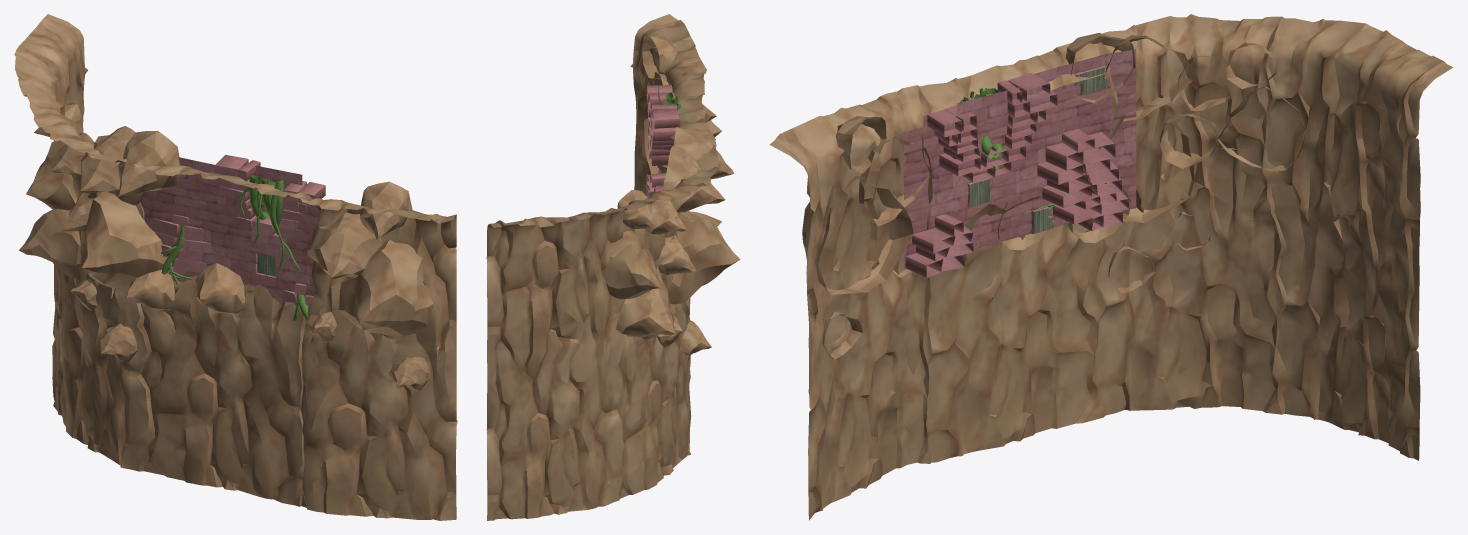
Rendered from SM_ENV_KNFRST_Cliff_Eb.FBX.
The picture shows the model from 3 angles, left to right: view 1: azimuth 30°, elevation 25°; view 2: azimuth 150°, elevation 25°; view 3: azimuth 270°, elevation 25°; orthographic projection. The views are drawn at different scales.
Visible parts, largest first — view 1: SM_ENV_KNFRST_Cliff_Eb; view 2: SM_ENV_KNFRST_Cliff_Eb; view 3: SM_ENV_KNFRST_Cliff_Eb.
Part boxes in pixels (left/top/right/bottom): SM_ENV_KNFRST_Cliff_Eb: left=14, top=14, right=457, bottom=520; SM_ENV_KNFRST_Cliff_Eb: left=486, top=14, right=740, bottom=520; SM_ENV_KNFRST_Cliff_Eb: left=769, top=14, right=1452, bottom=520.
Bounding box in the file's own units: 2470 × 3238 × 5160.
